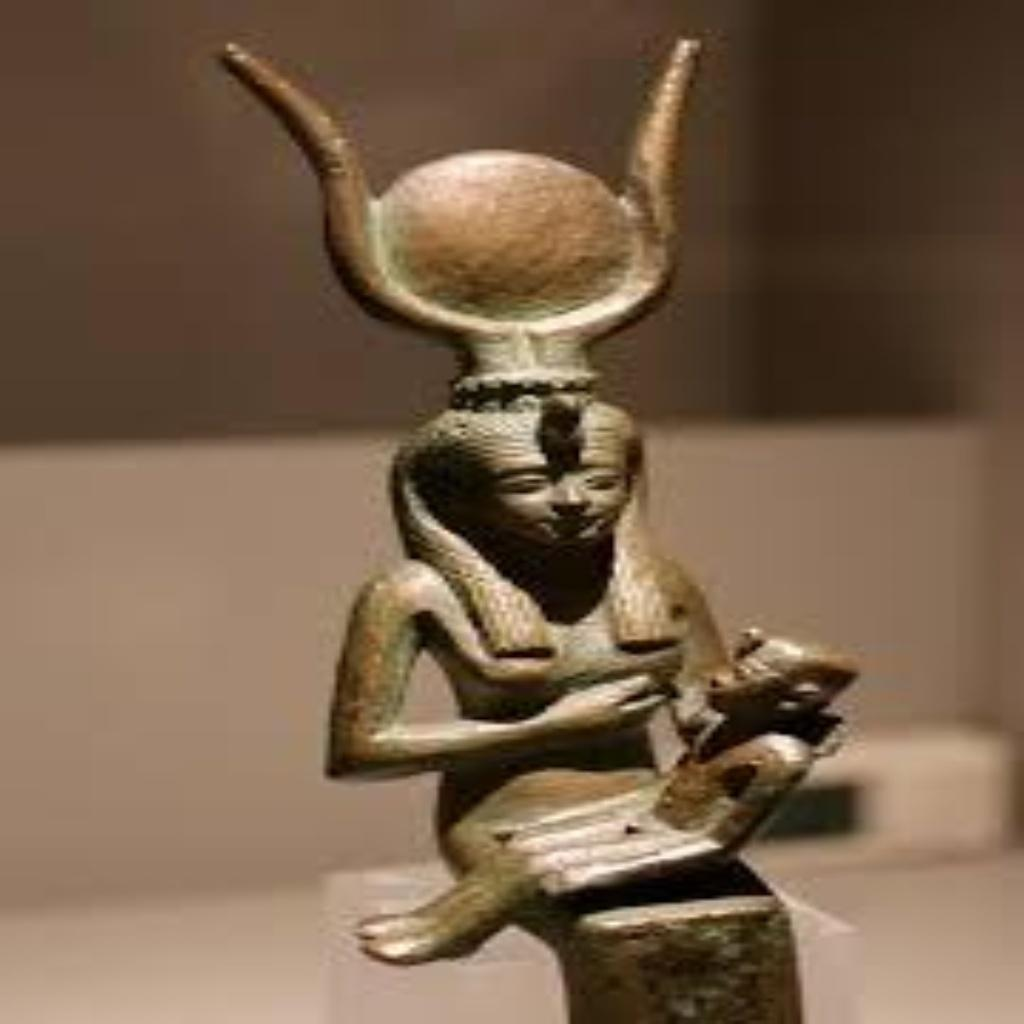Isis with her child: (199, 30, 876, 1020)
